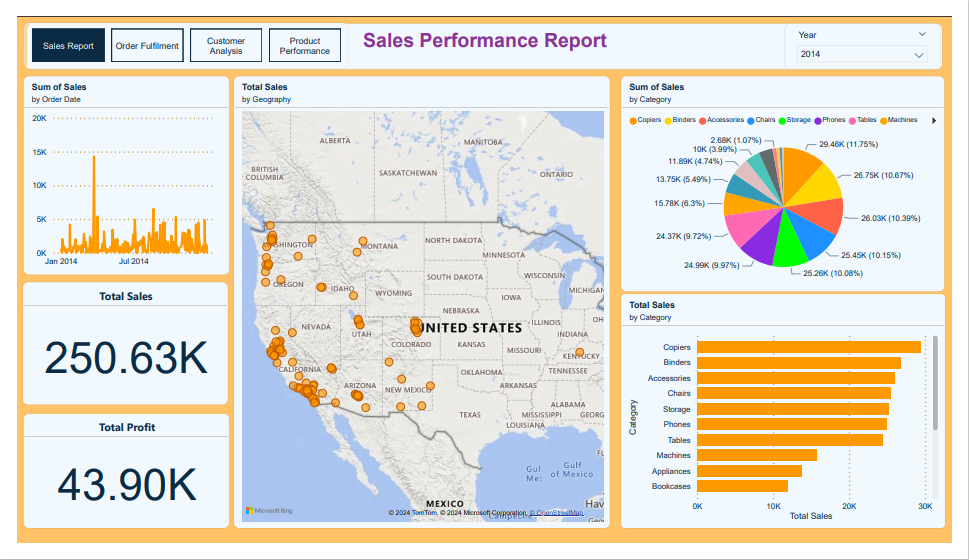

Layout of this report page (visuals, bound fields, positions):
{"tool":"powerbi","page":{"name":"Sales Report","canvas":[1280,720],"ordinal":0},"visuals":[{"type":"textbox","box":[14.2,9.9,1252.9,62.4],"z":0},{"type":"lineChart","fields":{"Y":["Sum(Amazon_2_Raw.Sales)"],"Category":["Amazon_2_Raw.Order Date.Variation.Date Hierarchy.Year"]},"box":[10.1,82.4,280.9,270.8],"z":1000},{"type":"map","fields":{"Category":["Amazon_2_Raw.Geography"],"Y":["Amazon_2_Raw.Total Sales"]},"box":[297.6,82.2,514.5,618],"z":2000},{"type":"pieChart","fields":{"Category":["Amazon_2_Raw.Category"],"Y":["Sum(Amazon_2_Raw.Sales)"]},"box":[827.7,82.2,442.2,293.4],"z":3000},{"type":"clusteredBarChart","fields":{"Category":["Amazon_2_Raw.Category"],"Y":["Amazon_2_Raw.Total Sales"]},"box":[827.7,379.8,443.6,320.3],"z":4000},{"type":"card","title":"Total Sales ","fields":{"Values":["Amazon_2_Raw.Total Sales"]},"box":[8.5,364.3,280.6,167.2],"z":5000},{"type":"card","title":"Total Profit","fields":{"Values":["Sum(Amazon_2_Raw.Profit)"]},"box":[9.9,544.3,280.6,155.9],"z":6000},{"type":"slicer","fields":{"Values":["Table.Year"]},"box":[1051.7,9.9,212.6,62.4],"z":7000},{"type":"pageNavigator","box":[11.3,8.5,442.2,62.4],"z":7001}]}

Visuals, with their boxes in screenshot pixels (x1, y1, x2, y2), scaled from the page's 1280x720 canvas onto the 969x560 screenshot:
textbox: <region>11, 8, 959, 56</region>
lineChart - Sum(Amazon_2_Raw.Sales) x Amazon_2_Raw.Order Date.Variation.Date Hierarchy.Year: <region>8, 64, 220, 275</region>
map - Amazon_2_Raw.Geography x Amazon_2_Raw.Total Sales: <region>225, 64, 615, 545</region>
pieChart - Amazon_2_Raw.Category x Sum(Amazon_2_Raw.Sales): <region>627, 64, 961, 292</region>
clusteredBarChart - Amazon_2_Raw.Category x Amazon_2_Raw.Total Sales: <region>627, 295, 962, 545</region>
"Total Sales " card: <region>6, 283, 219, 413</region>
"Total Profit" card: <region>7, 423, 220, 545</region>
slicer - Table.Year: <region>796, 8, 957, 56</region>
pageNavigator: <region>9, 7, 343, 55</region>
